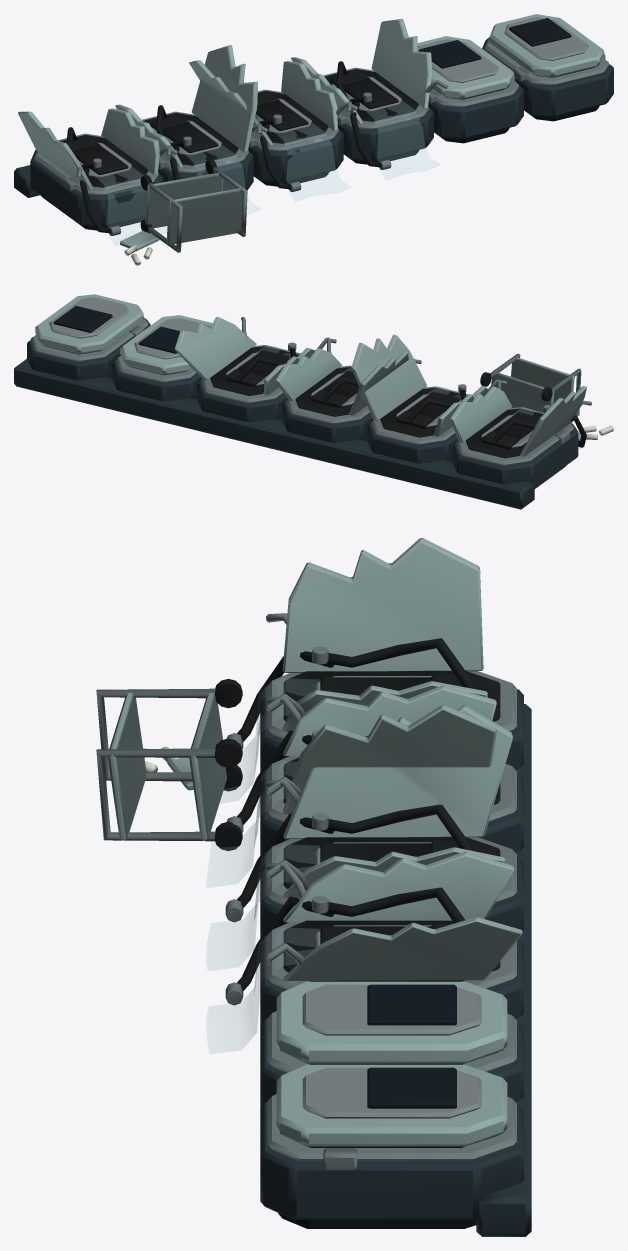
The model's file is bank.glb.
3 views of the same model, one above another, from view 1: azimuth 30°, elevation 25°; view 2: azimuth 150°, elevation 25°; view 3: azimuth 270°, elevation 25° (orthographic). The views are drawn at different scales.
Parts seen in each view (by area): view 1: breached-recovery-bank--e9-trim, breached-recovery-bank--e9-body, breached-recovery-bank--p11-rubber, breached-recovery-bank--e9-glass, breached-recovery-bank--p11-steel, breached-recovery-bank--p11-tint-metal, breached-recovery-bank--e9-dark; view 2: breached-recovery-bank--e9-body, breached-recovery-bank--e9-trim, breached-recovery-bank--p11-rubber, breached-recovery-bank--p11-steel, breached-recovery-bank--p11-tint-metal, breached-recovery-bank--e9-dark, breached-recovery-bank--e9-glass; view 3: breached-recovery-bank--e9-trim, breached-recovery-bank--e9-body, breached-recovery-bank--p11-rubber, breached-recovery-bank--p11-steel, breached-recovery-bank--e9-glass, breached-recovery-bank--p11-tint-metal, breached-recovery-bank--e9-dark.
Boxes of the visible parts, box(x1,y1,x2,y2) form: breached-recovery-bank--e9-trim: box(18, 14, 604, 251); breached-recovery-bank--e9-body: box(14, 38, 613, 226); breached-recovery-bank--p11-rubber: box(60, 61, 594, 233); breached-recovery-bank--e9-glass: box(95, 99, 440, 245); breached-recovery-bank--p11-steel: box(34, 37, 609, 252); breached-recovery-bank--p11-tint-metal: box(78, 17, 588, 177); breached-recovery-bank--e9-dark: box(41, 18, 599, 230); breached-recovery-bank--e9-body: box(14, 318, 578, 509); breached-recovery-bank--e9-trim: box(35, 294, 586, 456); breached-recovery-bank--p11-rubber: box(44, 345, 586, 458); breached-recovery-bank--p11-steel: box(31, 317, 591, 465); breached-recovery-bank--p11-tint-metal: box(49, 297, 532, 447); breached-recovery-bank--e9-dark: box(53, 306, 566, 488); breached-recovery-bank--e9-glass: box(257, 345, 584, 448); breached-recovery-bank--e9-trim: box(108, 538, 522, 1146); breached-recovery-bank--e9-body: box(260, 686, 531, 1236); breached-recovery-bank--p11-rubber: box(214, 638, 500, 1147); breached-recovery-bank--p11-steel: box(96, 613, 516, 1169); breached-recovery-bank--e9-glass: box(206, 678, 319, 1054); breached-recovery-bank--p11-tint-metal: box(302, 676, 481, 1118); breached-recovery-bank--e9-dark: box(278, 984, 476, 1228).
Size of the model in its own units: 10.27 by 2.01 by 3.7.
